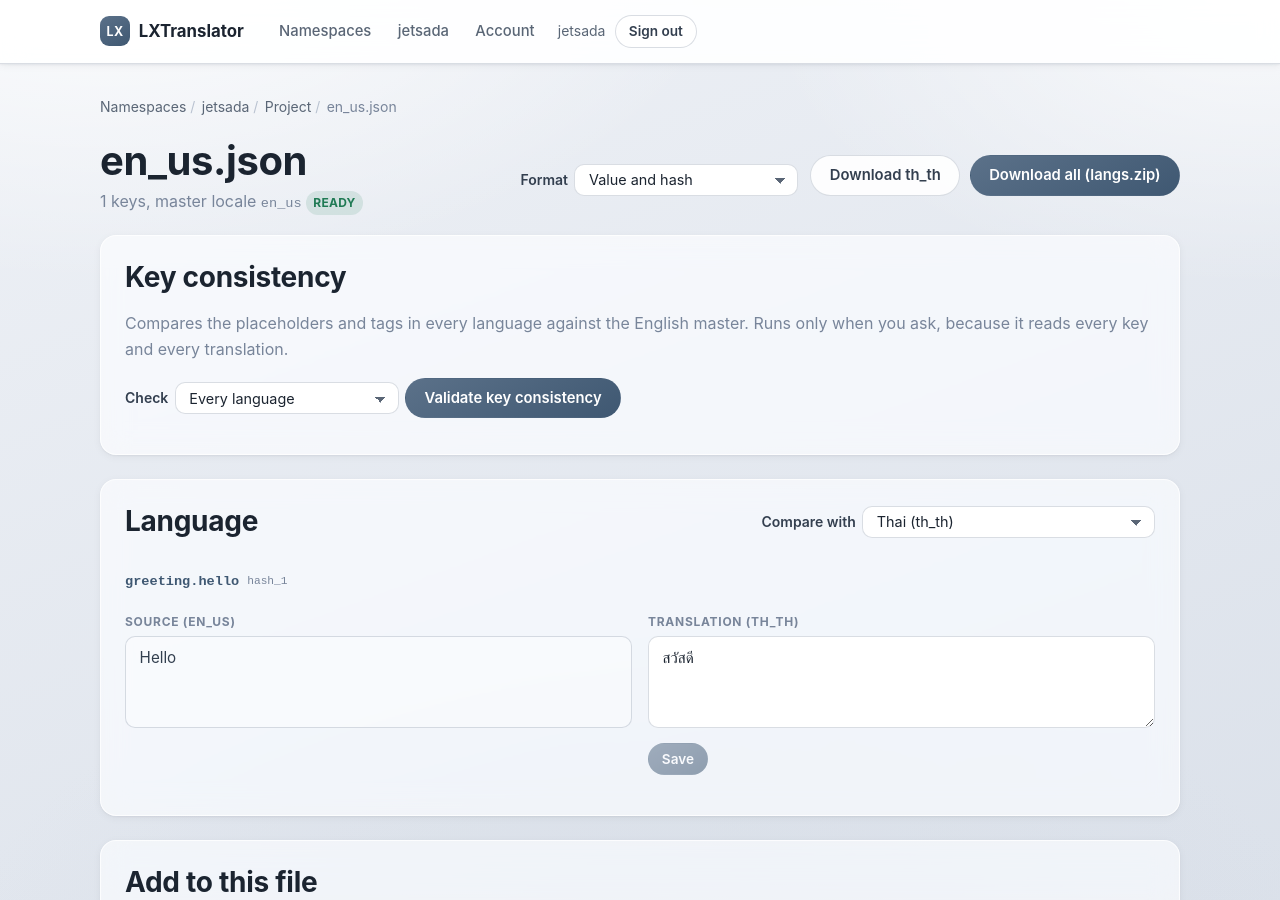
it: translation editor › choosing a language to compare › shows the master once when it is the selected language
expect the heading "Add to this file" is shown: met, box [125,865,317,899]
expect the text "Source (en_us)" is shown: met, box [125,614,236,628]
Select "American English (en_us) — master" in the dropdown labelled "Compare with" at (1009, 522), box [862,506,1155,538]
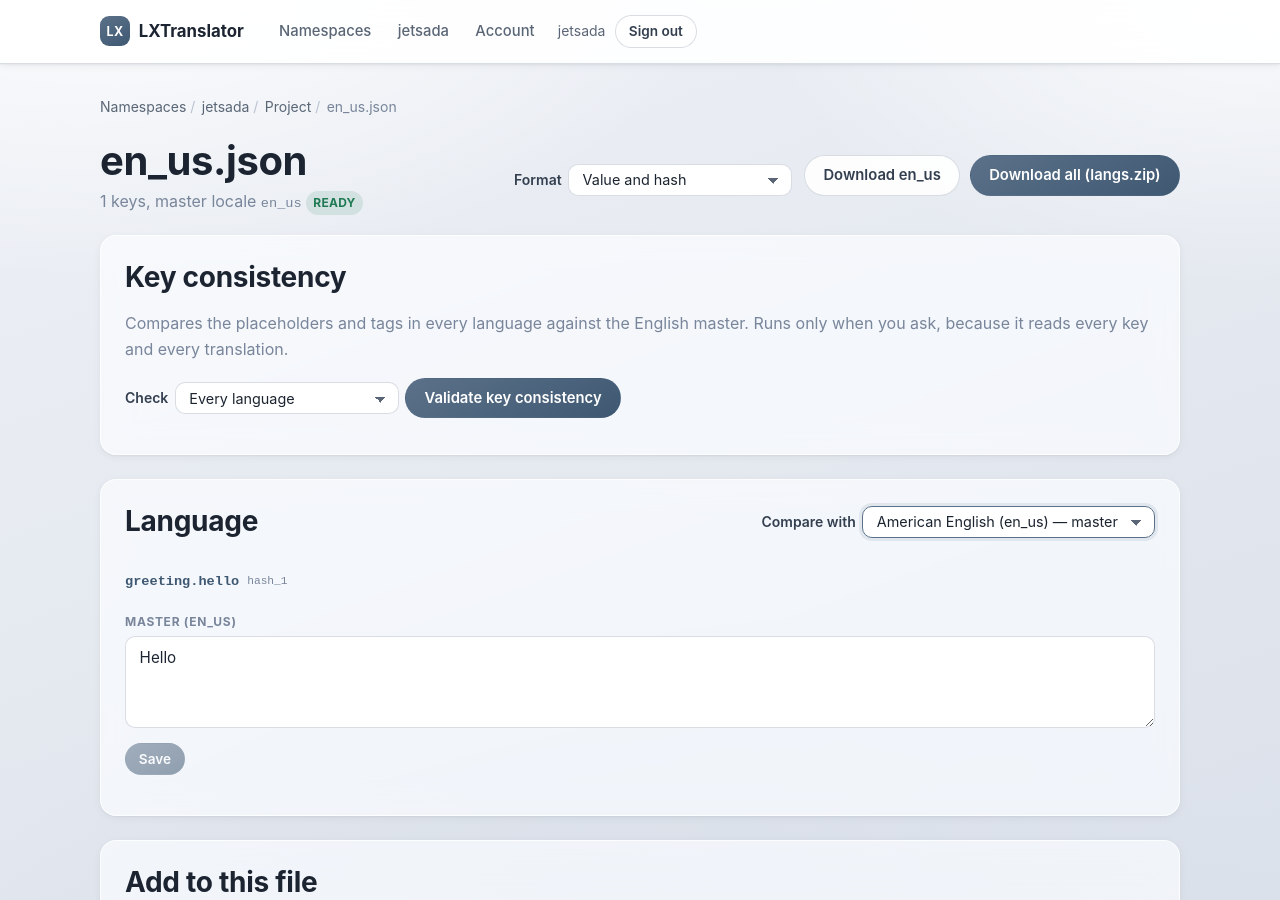
expect the text "Source (en_us)" is gone: met
expect the text "Master (en_us)" is shown: met, box [125,614,237,628]
